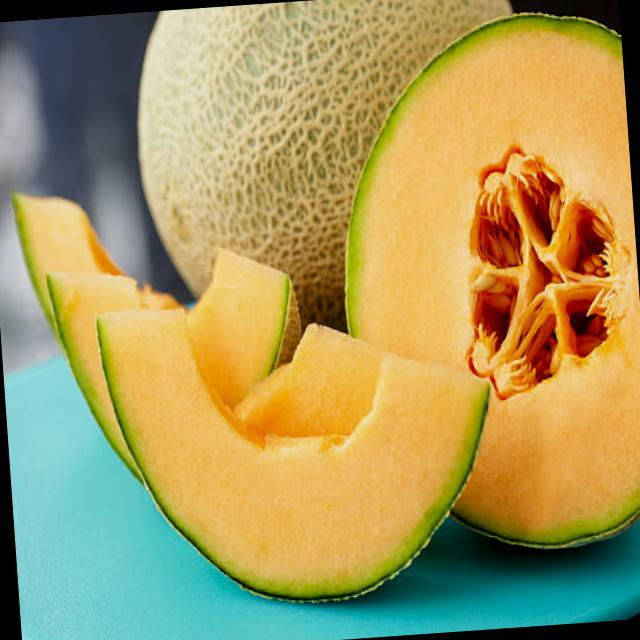cantaloupe: (324, 7, 640, 561), (92, 284, 505, 620)
